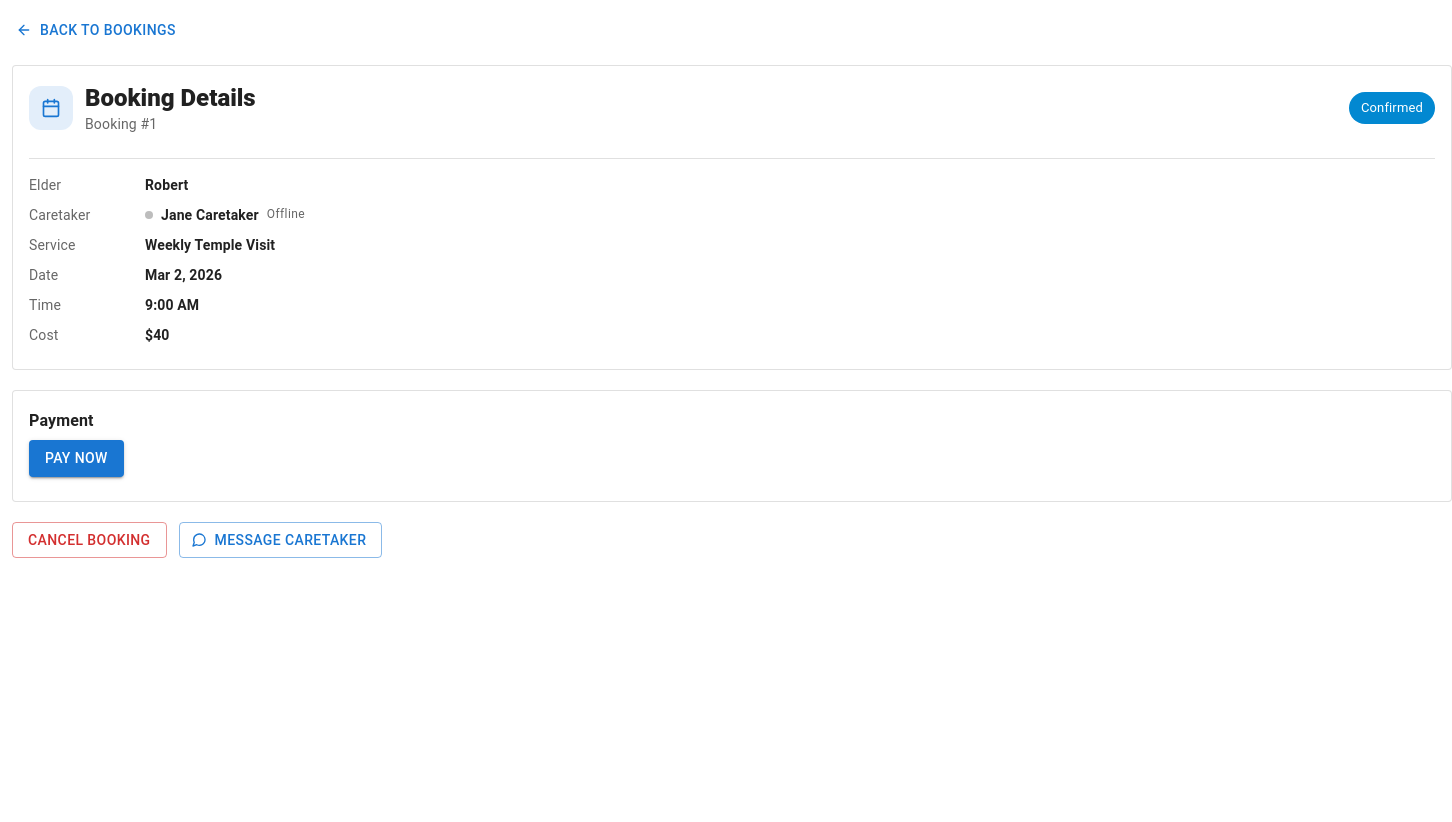
BookingDetail.page › shows an error when starting checkout fails
Click the button "Pay Now": (76, 458) 29,440 -> 124,477
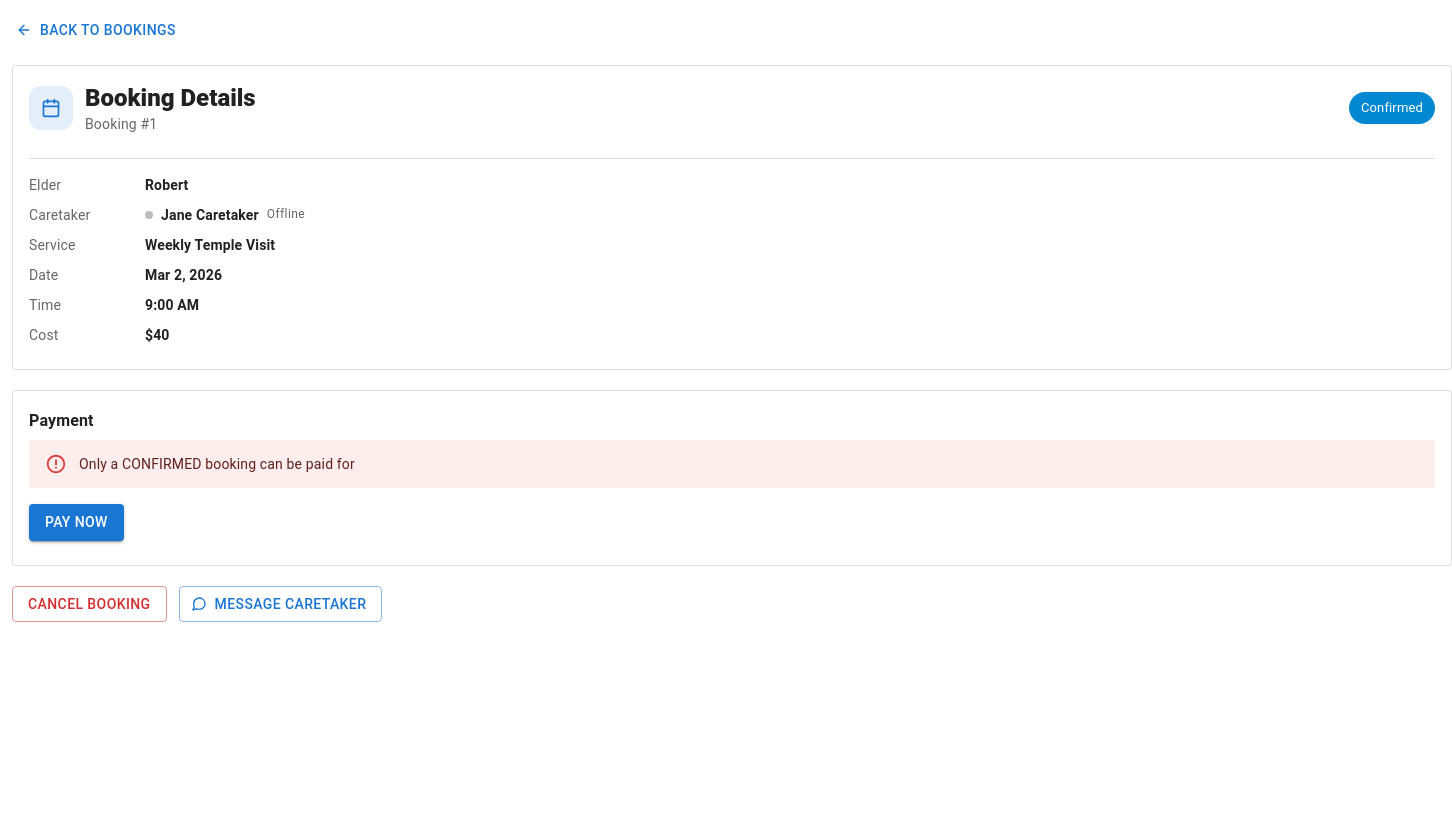
Expected: the text "Only a CONFIRMED booking can be paid for" is shown, 79,456 -> 355,472
